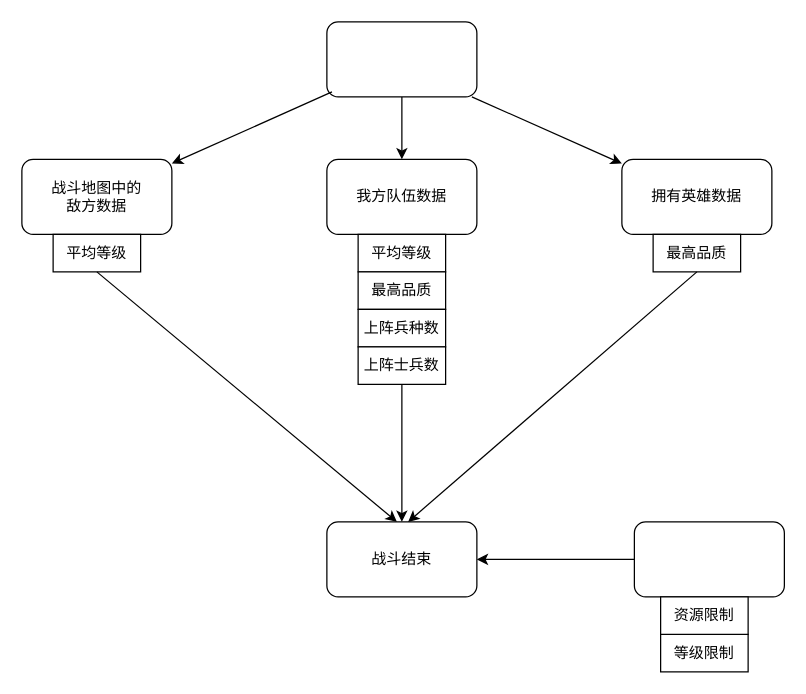
This 806x694 diagram has some shape labels left out. The shapes that lost their labels are listed below. From the top down, each one's box as (x1, y1, x2, y2) in pixels, then its label:
(326, 21, 477, 97): 战斗开始
(633, 521, 784, 597): 主城提升
